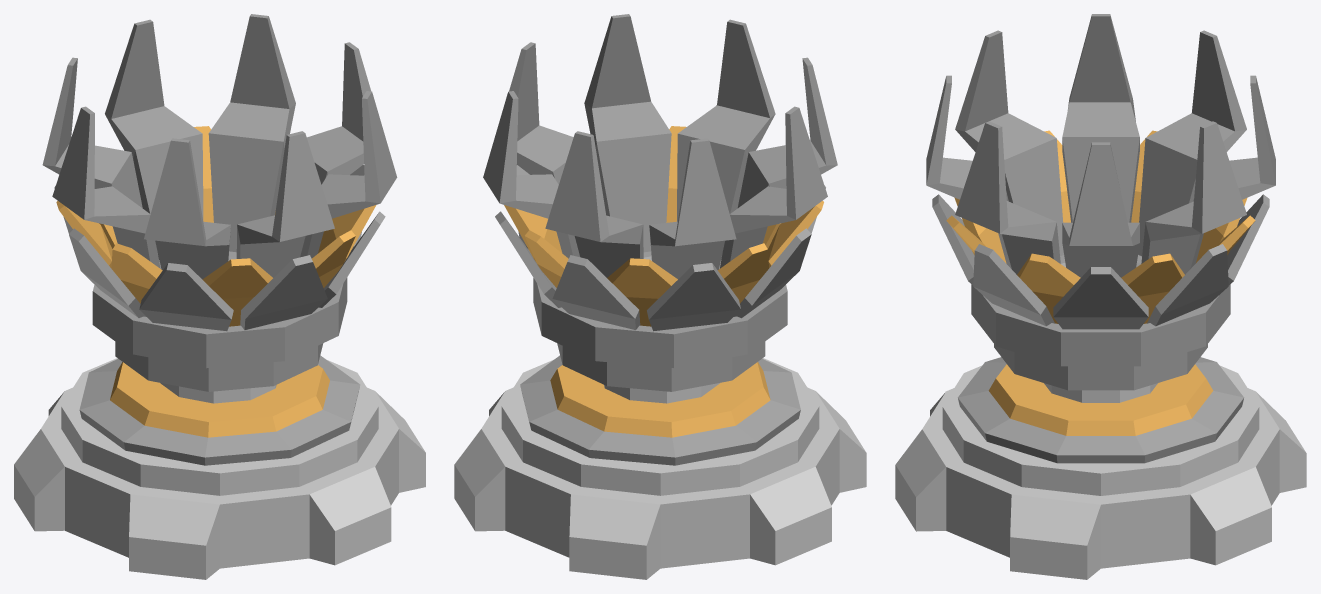
Rendered from sf_teleporter_2.glb.
3 views of the same model, side by side, from view 1: azimuth 30°, elevation 25°; view 2: azimuth 150°, elevation 25°; view 3: azimuth 270°, elevation 25° (orthographic).
Visible parts, largest first — view 1: Props_Teleporter_2; view 2: Props_Teleporter_2; view 3: Props_Teleporter_2.
Part boxes in pixels (left/top/right/bottom): Props_Teleporter_2: left=14, top=14, right=425, bottom=579; Props_Teleporter_2: left=454, top=14, right=866, bottom=579; Props_Teleporter_2: left=895, top=14, right=1306, bottom=579.
Size of the model in its own units: 1.21 by 1.34 by 1.21.
